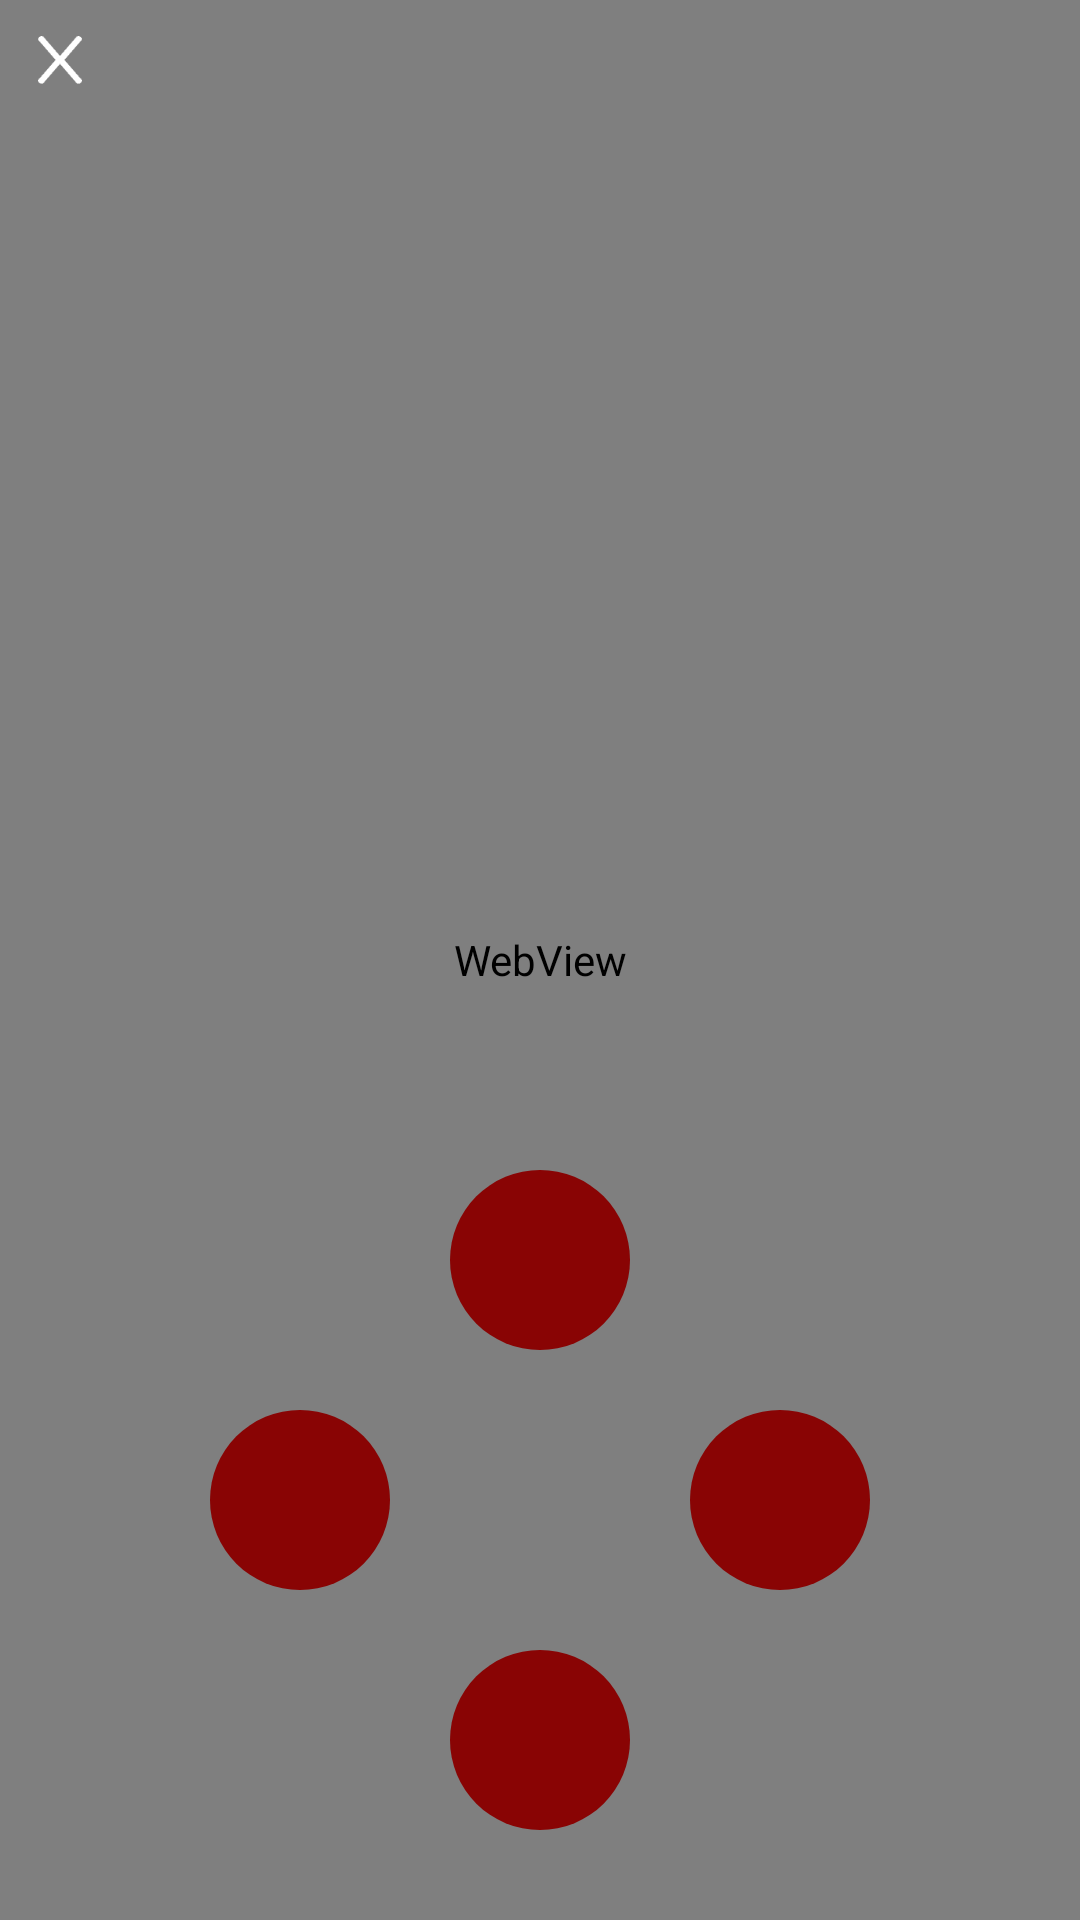

Screen size 1080 × 1920. Icon name, then its center in pixels as [x,y]:
close: [60,60]
